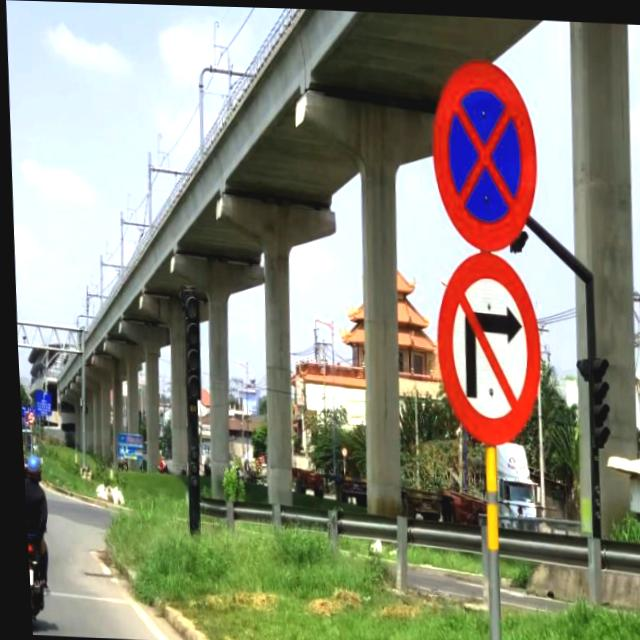Cam dung xe va do xe: (420, 49, 543, 255)
Cam re phai: (428, 249, 547, 442)
